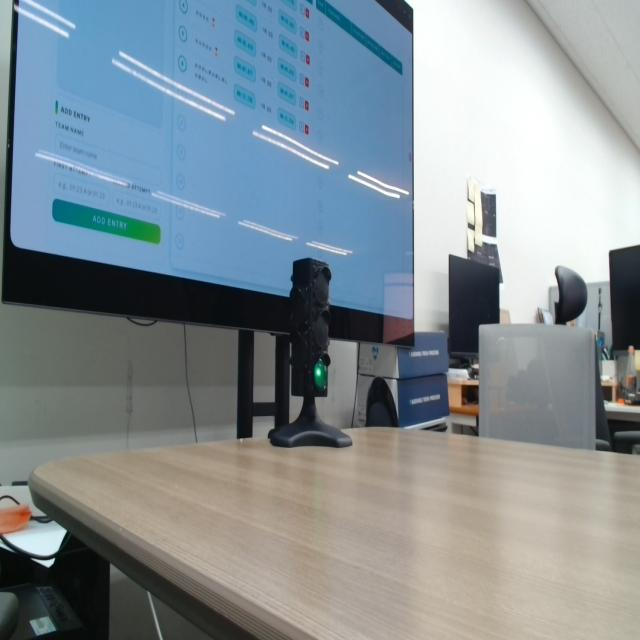green_light: (314, 360, 327, 391)
